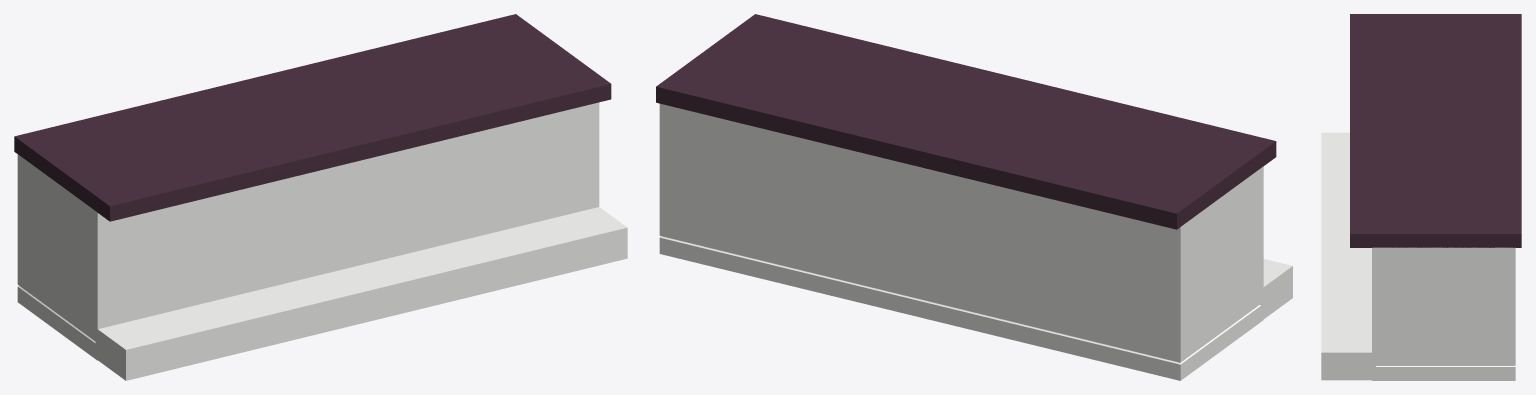
File: SM_counter_003.fbx
The picture shows the model from 3 angles, left to right: view 1: azimuth 30°, elevation 25°; view 2: azimuth 150°, elevation 25°; view 3: azimuth 270°, elevation 25°; orthographic projection. The views are drawn at different scales.
Visible parts, largest first — view 1: counter_003; view 2: counter_003; view 3: counter_003.
Part boxes in pixels (x1,y1,x2,y2): counter_003: (14, 14, 627, 380); counter_003: (656, 14, 1292, 380); counter_003: (1321, 14, 1521, 380).
Bounding box in the file's own units: 192 × 59.79 × 73.98.
